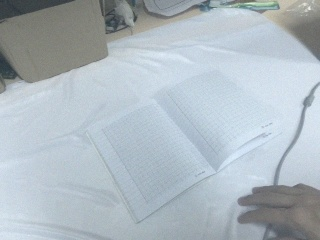box: (1, 1, 108, 84)
